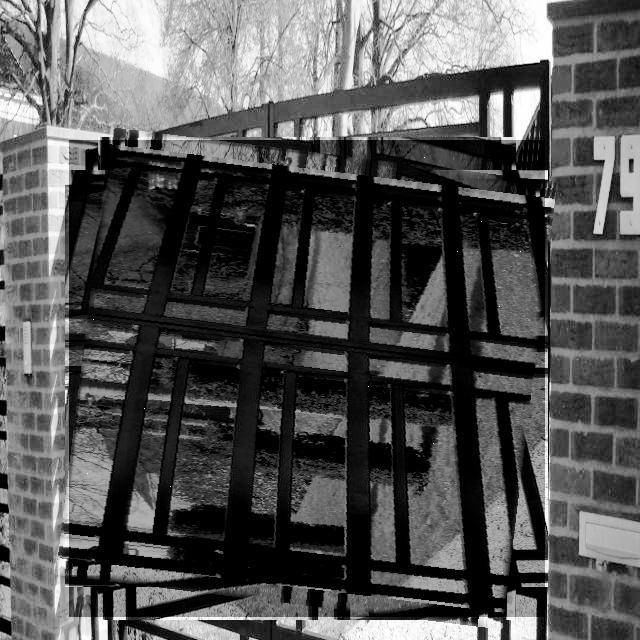fences: (69, 140, 545, 617)
